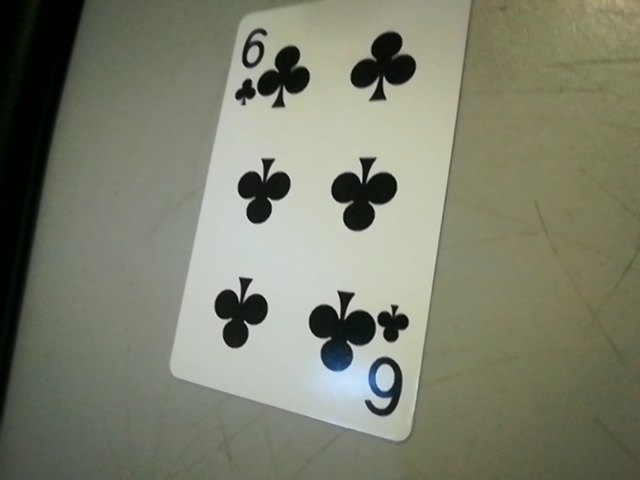mh 6: (364, 301, 417, 427)
